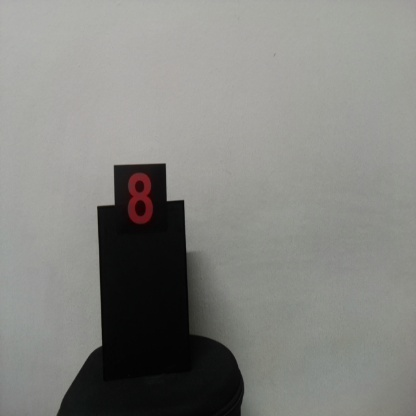id_8: (114, 166, 167, 243)
